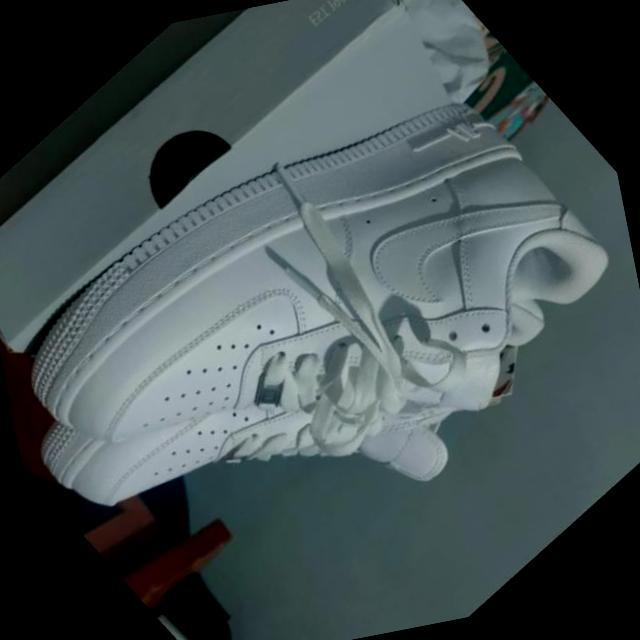nike_original_airforce: (0, 0, 640, 640), (0, 47, 640, 640)
